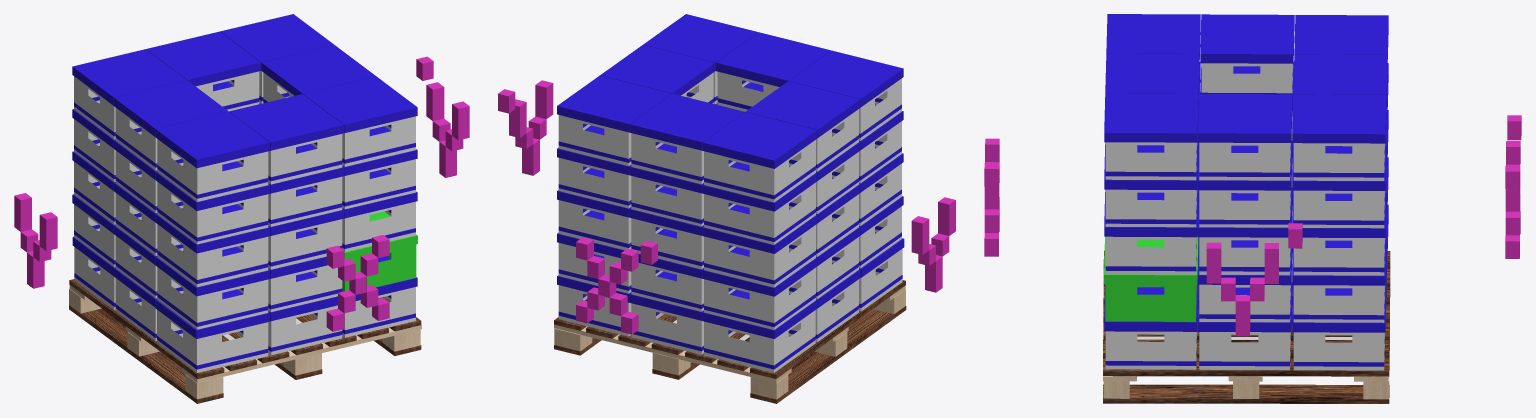
The model's file is caja312.gltf.
3 renders of one model, left to right at view 1: azimuth 30°, elevation 25°; view 2: azimuth 150°, elevation 25°; view 3: azimuth 270°, elevation 25°, orthographic. The views are drawn at different scales.
Visible parts, largest first — view 1: Cube.031_1, Cube.033_1, Cube.026_1, Cube.032_1, Cube.029_1, Cube.030_1, Cube.027_1, Cube.005_0, Cube.031_0, Cube.020_0, Cube.012_0, Cube.039_0 (+53 smaller); view 2: Cube.029_1, Cube.032_1, Cube.028_1, Cube.033_1, Cube.030_1, Cube.031_1, Cube.027_1, Cube.007_0, Cube.022_0, Cube.029_0, Cube.014_0, Cube.037_0 (+54 smaller); view 3: Cube.028_1, Cube.026_1, Cube.027_1, Cube.030_1, CajaVerde, Cube055, Cube.032_1, Cube.033_1, Cube.031_1, Cube.029_1, Cube.017_0, Cube.003_0 (+32 smaller).
Part boxes in pixels (x1,y1,x2,y2): Cube.031_1: (155, 111, 269, 198); Cube.033_1: (229, 94, 343, 181); Cube.026_1: (303, 76, 417, 163); Cube.032_1: (146, 31, 260, 109); Cube.029_1: (72, 49, 186, 136); Cube.030_1: (114, 80, 228, 167); Cube.027_1: (261, 45, 376, 102); Cube.005_0: (157, 310, 268, 372); Cube.031_0: (157, 139, 268, 201); Cube.020_0: (157, 224, 268, 287); Cube.012_0: (157, 267, 268, 329); Cube.039_0: (157, 182, 268, 244); Cube.029_1: (702, 112, 817, 199); Cube.032_1: (629, 93, 744, 180); Cube.028_1: (557, 75, 671, 162); Cube.033_1: (716, 32, 830, 109); Cube.030_1: (746, 81, 860, 168); Cube.031_1: (789, 50, 903, 137); Cube.027_1: (600, 45, 715, 103); Cube.007_0: (704, 310, 815, 372); Cube.022_0: (704, 225, 815, 287); Cube.029_0: (704, 140, 815, 202); Cube.014_0: (704, 267, 815, 329); Cube.037_0: (704, 182, 815, 244); Cube.028_1: (1292, 94, 1386, 177); Cube.026_1: (1104, 93, 1198, 176); Cube.027_1: (1198, 94, 1292, 176); Cube.030_1: (1200, 14, 1294, 94); CajaVerde: (1104, 236, 1198, 321); Cube055: (1103, 384, 1389, 403); Cube.032_1: (1293, 54, 1387, 95); Cube.033_1: (1105, 53, 1199, 95); Cube.031_1: (1106, 14, 1200, 59); Cube.029_1: (1294, 15, 1388, 59); Cube.017_0: (1105, 331, 1197, 369); Cube.003_0: (1293, 332, 1385, 370).
Size of the model in its own units: 4.23 by 2.33 by 4.22.
82 materials, 2 textured.
